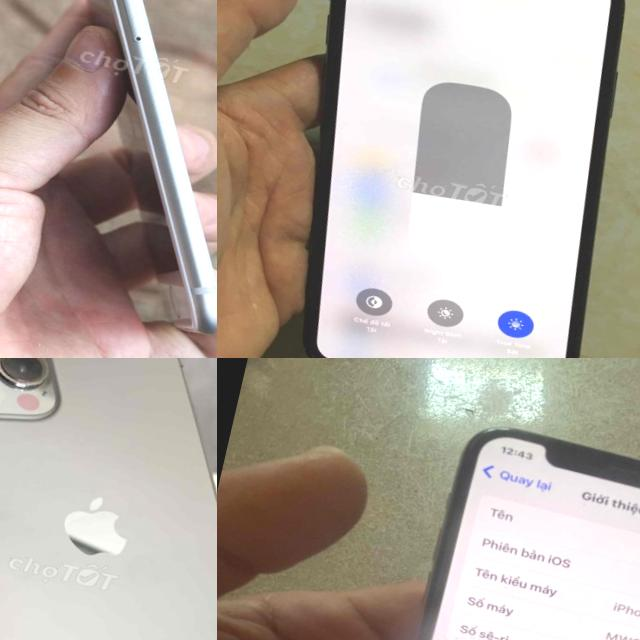gen_11: (342, 398, 640, 640)
gen_12_13: (0, 358, 217, 640)
gen_7_8: (0, 0, 217, 353)
gen_x_xs: (234, 0, 640, 358)
